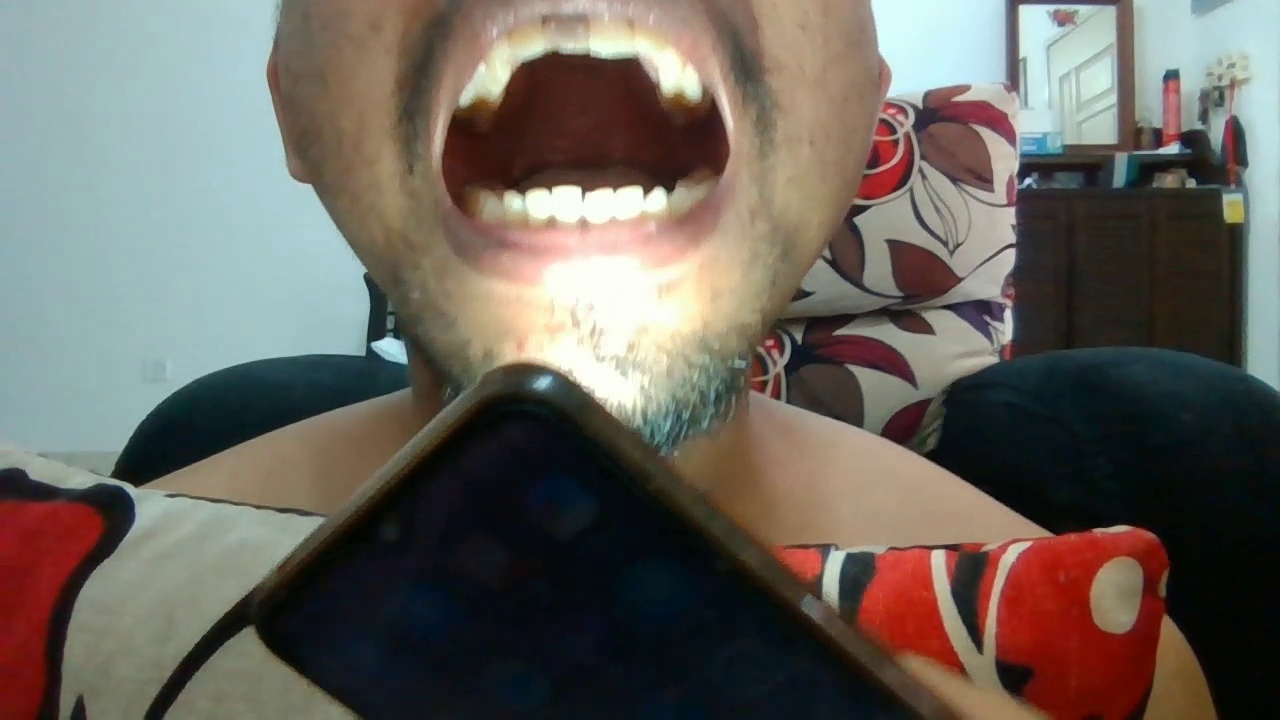Canine: (644, 184, 670, 215), (503, 188, 523, 219)
Central Incisor: (585, 14, 635, 59), (541, 16, 587, 61), (550, 183, 582, 224), (583, 185, 615, 224)
Lateral Incisor: (508, 22, 549, 61), (615, 184, 645, 220), (523, 187, 550, 221)
